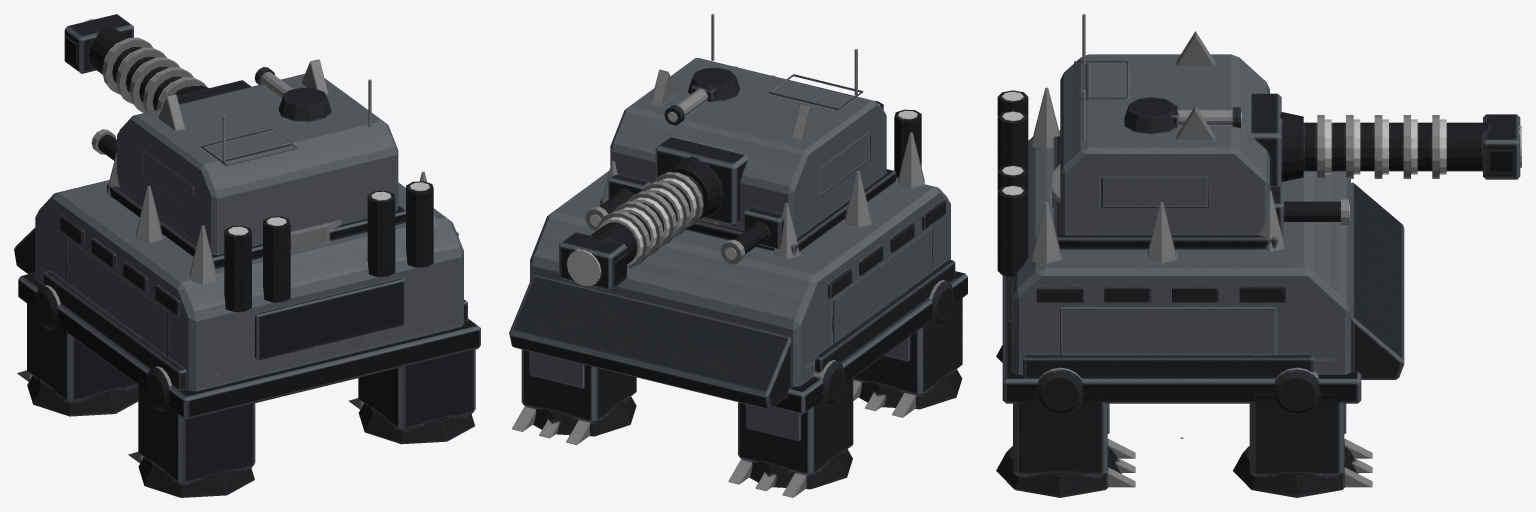
Rendered from chs_colossus.fbx.
3 renders of one model, left to right at view 1: azimuth 30°, elevation 25°; view 2: azimuth 150°, elevation 25°; view 3: azimuth 270°, elevation 25°, orthographic. The views are drawn at different scales.
Visible parts, largest first — view 1: base_bar, torso_bar, legBL_bar, legBR_bar, legFL_bar, base_glow_power_bar; view 2: base_bar, torso_bar, legFL_bar, legBL_bar, legFR_bar, torso_glow_power_bar, torso_glow_weapon_bar; view 3: base_bar, torso_bar, legFR_bar, legBR_bar, torso_glow_power_bar, base_glow_power_bar.
Boxes of the visible parts, x1,y1,x2,y2 form: base_bar: (14,151,480,419); torso_bar: (64,14,405,268); legBL_bar: (128,366,255,497); legBR_bar: (348,349,475,444); legFL_bar: (17,285,138,416); base_glow_power_bar: (228,182,429,235); base_bar: (509,66,967,414); torso_bar: (559,14,896,290); legFL_bar: (728,360,853,497); legBL_bar: (853,280,962,417); legFR_bar: (512,349,636,444); torso_glow_power_bar: (598,178,696,266); torso_glow_weapon_bar: (567,112,736,286); base_bar: (997,87,1404,403); torso_bar: (1053,14,1520,249); legFR_bar: (1233,367,1372,497); legBR_bar: (996,367,1135,497); torso_glow_power_bar: (1324,119,1446,174); base_glow_power_bar: (1002,91,1023,195).
Bounding box in the file's own units: 2950 × 3150 × 3888.
Materials: 2 (2 with a texture image).
